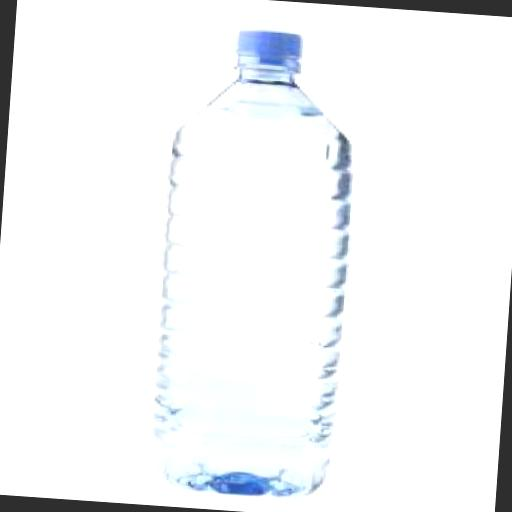plastic: (146, 24, 362, 499), (232, 26, 298, 65)
